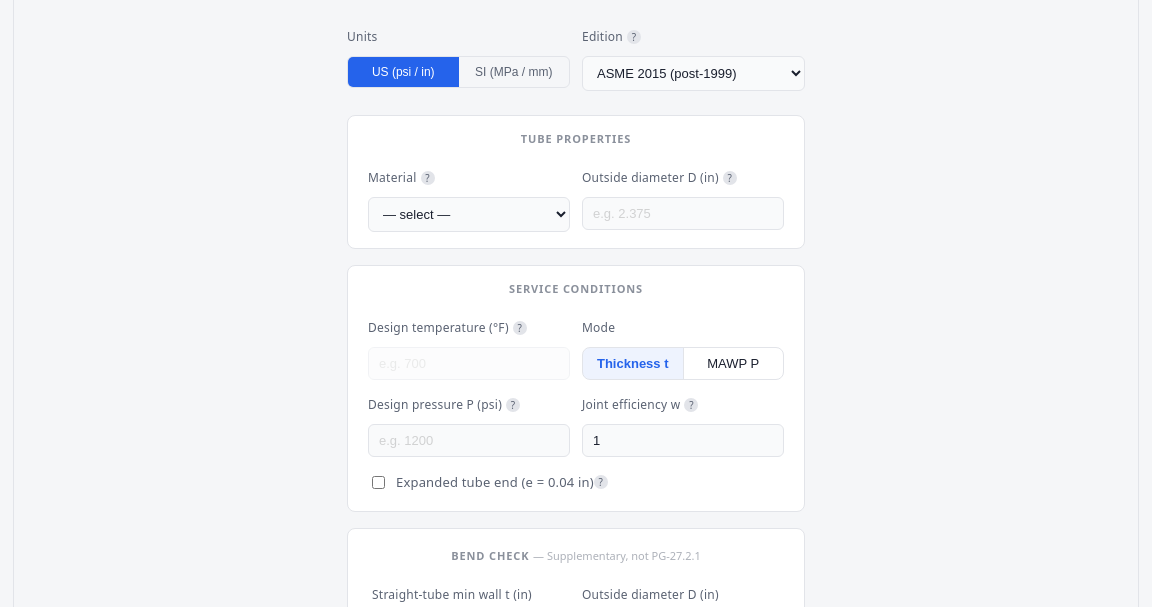
Test: TubeCalculator Show Work › Show Work button appears after a valid thickness result
Select "SA-178 C" in the dropdown labelled "Material ?": (469, 215) [368,197,570,232]
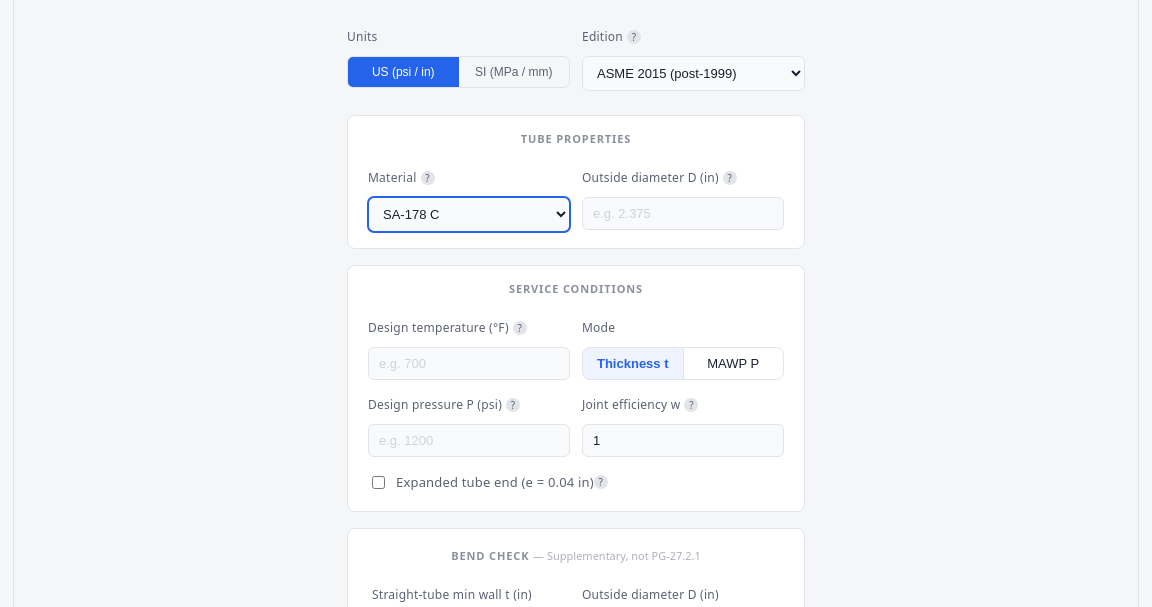
In the number field with placeholder "e.g. 700": (469, 364) [368,347,570,380], type "700"
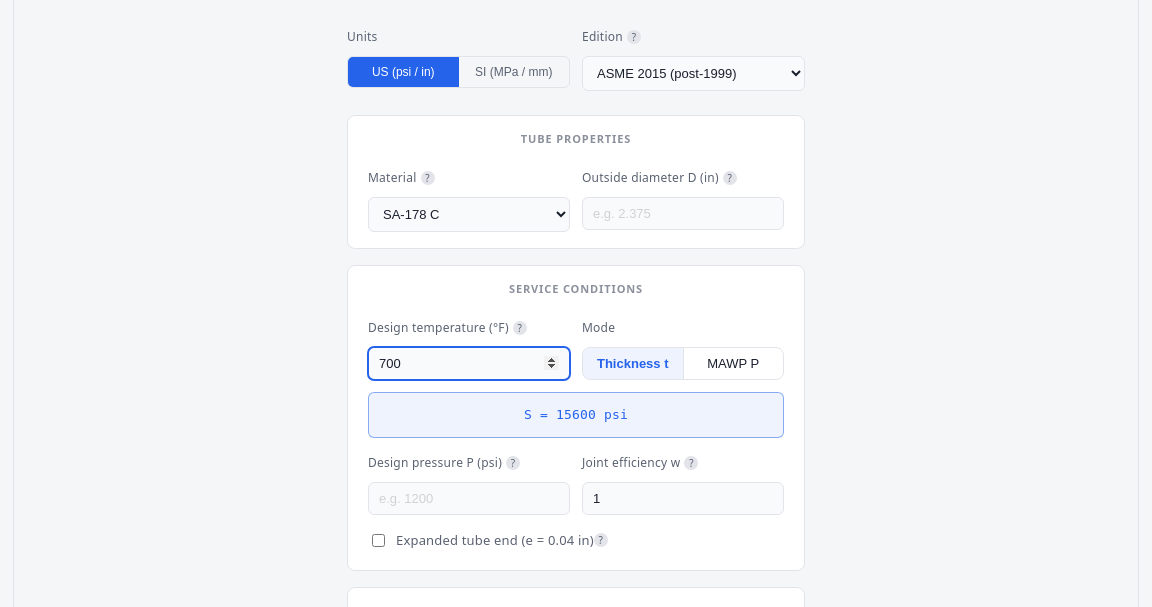
In the number field with placeholder "e.g. 1200": (469, 499) [368,482,570,515], type "970"
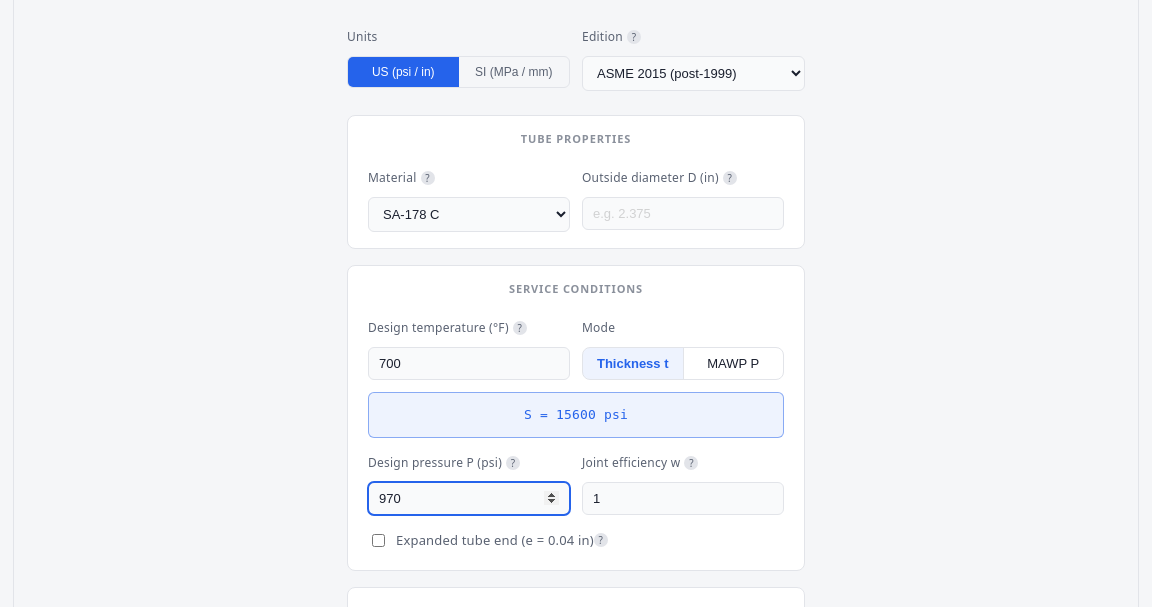
In the number field with placeholder "e.g. 2.375": (683, 214) [582,197,784,230], type "2.375"
(page scrolled)
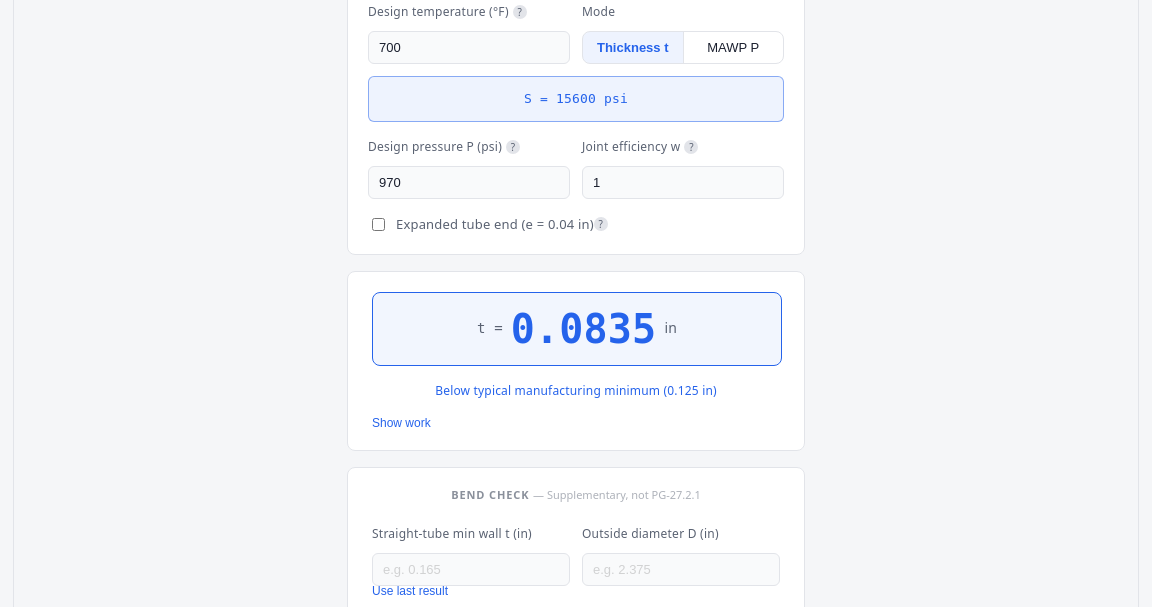
Expected: the button "Show work" is shown, [372,416,780,430]
